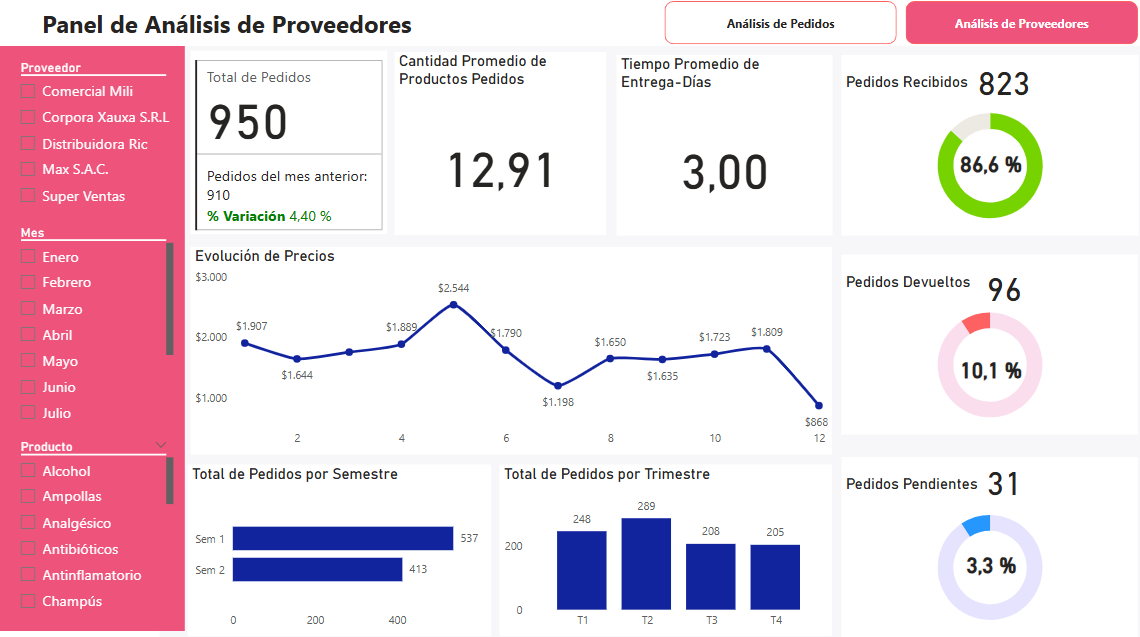

This screenshot's page, from the dashboard's own definition file:
{"tool":"powerbi","page":{"name":"Análisis de Proveedores","canvas":[1280,720],"ordinal":2},"visuals":[{"type":"cardVisual","fields":{"Data":["Dax Medidas.Total de Pedidos"]},"box":[217.9,62.2,218.8,204.3],"z":0},{"type":"slicer","fields":{"Values":["Calendario2.Mes"]},"box":[17.3,249.9,187.7,238.7],"z":1000},{"type":"card","title":"Cantidad Promedio de Productos Pedidos","fields":{"Values":["Dax Medidas.Cantidad Promedio de Productos Pedidos"]},"box":[444.5,63.2,235.4,203.3],"z":2000},{"type":"card","title":"Tiempo Promedio de Entrega-Días","fields":{"Values":["Dax Medidas.Tiempo Promedio de Entrega-Días"]},"box":[691.6,66.1,240.2,200.4],"z":3000},{"type":"lineChart","title":"Evolución de Precios","fields":{"Category":["Calendario2.Mes Num"],"Y":["Sum(Datos1.Precio U.)"]},"box":[218.8,280.1,712.9,230.5],"z":4000},{"type":"clusteredBarChart","fields":{"Category":["Calendario2.Semestre"],"Y":["Dax Medidas.Total de Pedidos"]},"box":[215,522.3,337.5,190.6],"z":5000},{"type":"clusteredColumnChart","fields":{"Category":["Calendario2.Trimestre"],"Y":["Dax Medidas.Total de Pedidos"]},"box":[562.2,522.3,369.6,190.6],"z":6000},{"type":"donutChart","title":"Pedidos Recibidos ","fields":{"Y":["Dax Medidas.Pedidos Recibidos","Dax Medidas.Gráficos Recibidos"]},"box":[942.5,66.1,329.7,200.4],"z":7000},{"type":"card","fields":{"Values":["Dax Medidas.Pedidos Recibidos"]},"box":[1079.1,66.3,87.7,56.1],"z":8000},{"type":"card","fields":{"Values":["Dax Medidas.% Pedidos Recibidos"]},"box":[1058.2,157.6,98.2,56.4],"z":9000},{"type":"donutChart","title":"Pedidos Devueltos ","fields":{"Y":["Dax Medidas.Gráfico Devueltos","Dax Medidas.Pedidos Devueltos"]},"box":[942.4,288.6,329.4,199.9],"z":10000},{"type":"card","fields":{"Values":["Dax Medidas.% Pedidos Devueltos"]},"box":[1058.7,388.6,97.9,56.1],"z":11000},{"type":"card","fields":{"Values":["Dax Medidas.Pedidos Devueltos"]},"box":[1078.7,295.7,87.5,56.4],"z":12000},{"type":"donutChart","title":"Pedidos Pendientes","fields":{"Y":["Dax Medidas.Gráfico Devueltos","Dax Medidas.Pedidos Devueltos"]},"box":[942.4,513,329.4,200],"z":13000},{"type":"card","fields":{"Values":["Dax Medidas.% Pedidos Pendientes"]},"box":[1058.7,605.8,98.9,56.1],"z":14000},{"type":"card","fields":{"Values":["Dax Medidas.Pedidos Pendientes"]},"box":[1079.1,511,87.7,56.1],"z":15000},{"type":"slicer","fields":{"Values":["Proveedores3.Proveedor"]},"box":[17.3,66.3,187.7,191.7],"z":16000},{"type":"slicer","fields":{"Values":["Productos4.Producto"]},"box":[17.3,488.5,187.7,204],"z":17000},{"type":"textbox","box":[47.9,8.2,433.5,54.1],"z":18000},{"type":"pageNavigator","box":[744.5,6.1,526.3,49],"z":19000}]}

Visuals, with their boxes in screenshot pixels (x1, y1, x2, y2), scaled from the page's 1280x720 canvas onto the 1140x637 screenshot:
cardVisual - Dax Medidas.Total de Pedidos: box=[194, 55, 389, 236]
slicer - Calendario2.Mes: box=[15, 221, 183, 432]
"Cantidad Promedio de Productos Pedidos" card: box=[396, 56, 606, 236]
"Tiempo Promedio de Entrega-Días" card: box=[616, 58, 830, 236]
"Evolución de Precios" lineChart: box=[195, 248, 830, 452]
clusteredBarChart - Calendario2.Semestre x Dax Medidas.Total de Pedidos: box=[191, 462, 492, 631]
clusteredColumnChart - Calendario2.Trimestre x Dax Medidas.Total de Pedidos: box=[501, 462, 830, 631]
"Pedidos Recibidos " donutChart: box=[839, 58, 1133, 236]
card - Dax Medidas.Pedidos Recibidos: box=[961, 59, 1039, 108]
card - Dax Medidas.% Pedidos Recibidos: box=[942, 139, 1030, 189]
"Pedidos Devueltos " donutChart: box=[839, 255, 1133, 432]
card - Dax Medidas.% Pedidos Devueltos: box=[943, 344, 1030, 393]
card - Dax Medidas.Pedidos Devueltos: box=[961, 262, 1039, 312]
"Pedidos Pendientes" donutChart: box=[839, 454, 1133, 631]
card - Dax Medidas.% Pedidos Pendientes: box=[943, 536, 1031, 586]
card - Dax Medidas.Pedidos Pendientes: box=[961, 452, 1039, 502]
slicer - Proveedores3.Proveedor: box=[15, 59, 183, 228]
slicer - Productos4.Producto: box=[15, 432, 183, 613]
textbox: box=[43, 7, 429, 55]
pageNavigator: box=[663, 5, 1132, 49]
